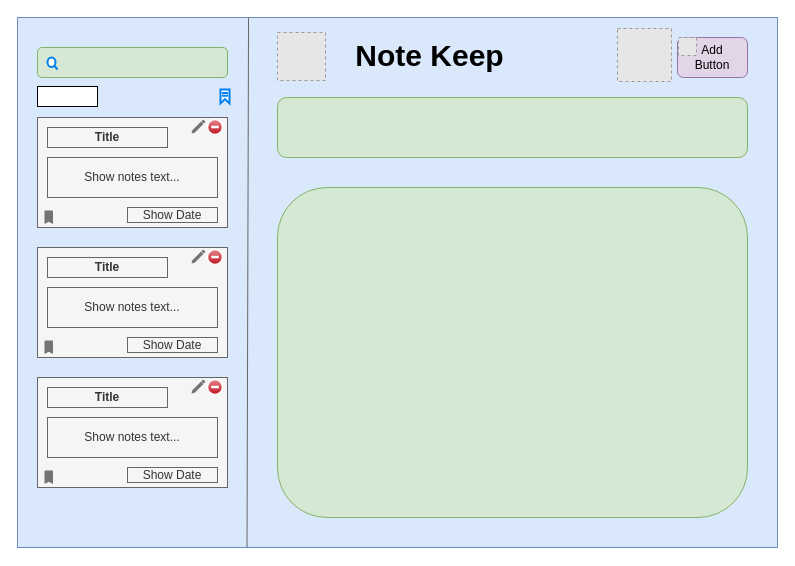
Image size: 795x566. Some labels were removed from this diagram. Grey dashed boxes stand in for pictures. Each missing label, with the centre of its shape:
"Add Notes Title..." goes at (x=512, y=127).
"Notes Qty" goes at (x=67, y=96).
"Notes search bar.." goes at (x=132, y=62).
"textarea...." goes at (x=512, y=352).
